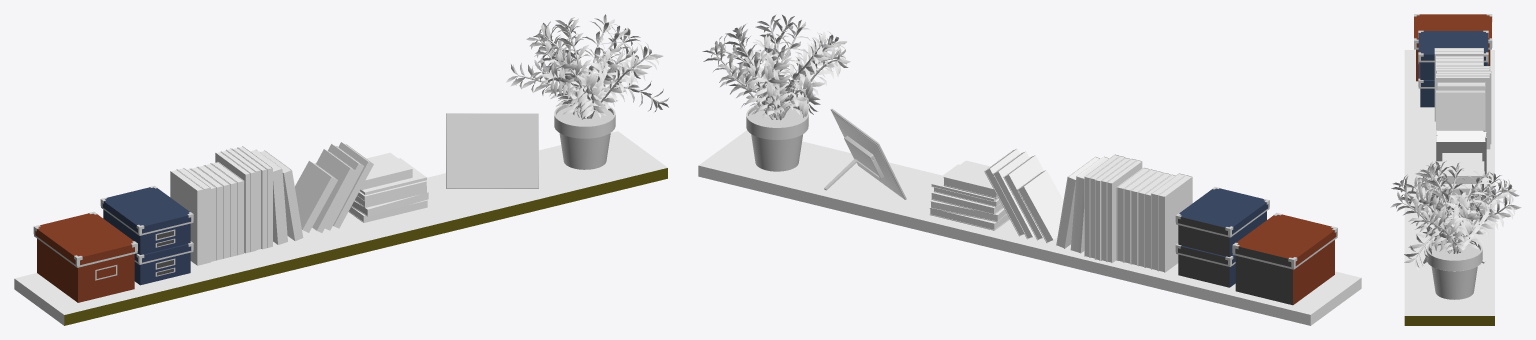
The picture shows the model from 3 angles, left to right: view 1: azimuth 30°, elevation 25°; view 2: azimuth 150°, elevation 25°; view 3: azimuth 270°, elevation 25°; orthographic projection. The views are drawn at different scales.
Visible parts, largest first — view 1: Component#349_001, Obj_000003_001, Group_008, kassett_dvd Box#5_002, kassett_dvd Box#5_001, kassett_dvd Box#4_002, Obj_000002_001, libro 1_002, libro 1_015, kassett_dvd Box#4_001, libro 1_020, libro 1_022 (+25 smaller); view 2: Component#349_001, Obj_000003_001, kassett_dvd Box#5_002, kassett_dvd Box#5_001, kassett_dvd Box#4_002, Obj_000002_001, libro 1_002, libro 1_015, kassett_dvd Box#4_001, libro 1_022, libro 1_008, libro 1_020 (+23 smaller); view 3: Component#349_001, Obj_000003_001, libro 2_001, Obj_000002_001, libro 1_022, kassett_dvd Box#5_002, libro 1_014, kassett_dvd Box#4_001, Obj_000004_001, kassett_dvd Box#4_002, libro 1_012, kassett_dvd Box#5_001 (+15 smaller).
Boxes of the visible parts, <box> form: Component#349_001: <box>14,131,667,325</box>; Obj_000003_001: <box>506,14,668,118</box>; Group_008: <box>447,114,537,187</box>; kassett_dvd Box#5_002: <box>34,219,107,302</box>; kassett_dvd Box#5_001: <box>64,213,137,295</box>; kassett_dvd Box#4_002: <box>101,192,166,254</box>; Obj_000002_001: <box>554,103,615,169</box>; libro 1_002: <box>170,169,204,265</box>; libro 1_015: <box>295,161,337,232</box>; kassett_dvd Box#4_001: <box>128,187,193,249</box>; libro 1_020: <box>312,149,355,232</box>; libro 1_022: <box>360,152,412,190</box>; Component#349_001: <box>698,130,1361,325</box>; Obj_000003_001: <box>702,14,850,119</box>; kassett_dvd Box#5_002: <box>1263,220,1337,305</box>; kassett_dvd Box#5_001: <box>1232,214,1306,297</box>; kassett_dvd Box#4_002: <box>1203,194,1269,256</box>; Obj_000002_001: <box>746,103,808,171</box>; libro 1_002: <box>1158,175,1192,272</box>; libro 1_015: <box>1017,170,1063,242</box>; kassett_dvd Box#4_001: <box>1176,188,1241,250</box>; libro 1_022: <box>943,160,997,198</box>; libro 1_008: <box>1106,160,1142,262</box>; libro 1_020: <box>1003,155,1043,240</box>; Component#349_001: <box>1404,50,1494,325</box>; Obj_000003_001: <box>1390,161,1521,270</box>; libro 2_001: <box>1436,90,1485,160</box>; Obj_000002_001: <box>1426,240,1482,299</box>; libro 1_022: <box>1442,153,1482,183</box>; kassett_dvd Box#5_002: <box>1414,14,1491,27</box>; libro 1_014: <box>1436,136,1485,174</box>; kassett_dvd Box#4_001: <box>1418,42,1488,79</box>; Obj_000004_001: <box>1403,172,1509,258</box>; kassett_dvd Box#4_002: <box>1418,31,1488,42</box>; libro 1_012: <box>1436,76,1490,149</box>; kassett_dvd Box#5_001: <box>1414,27,1491,81</box>.
Bounding box in the file's own units: 147 × 33.3 × 30.37.
